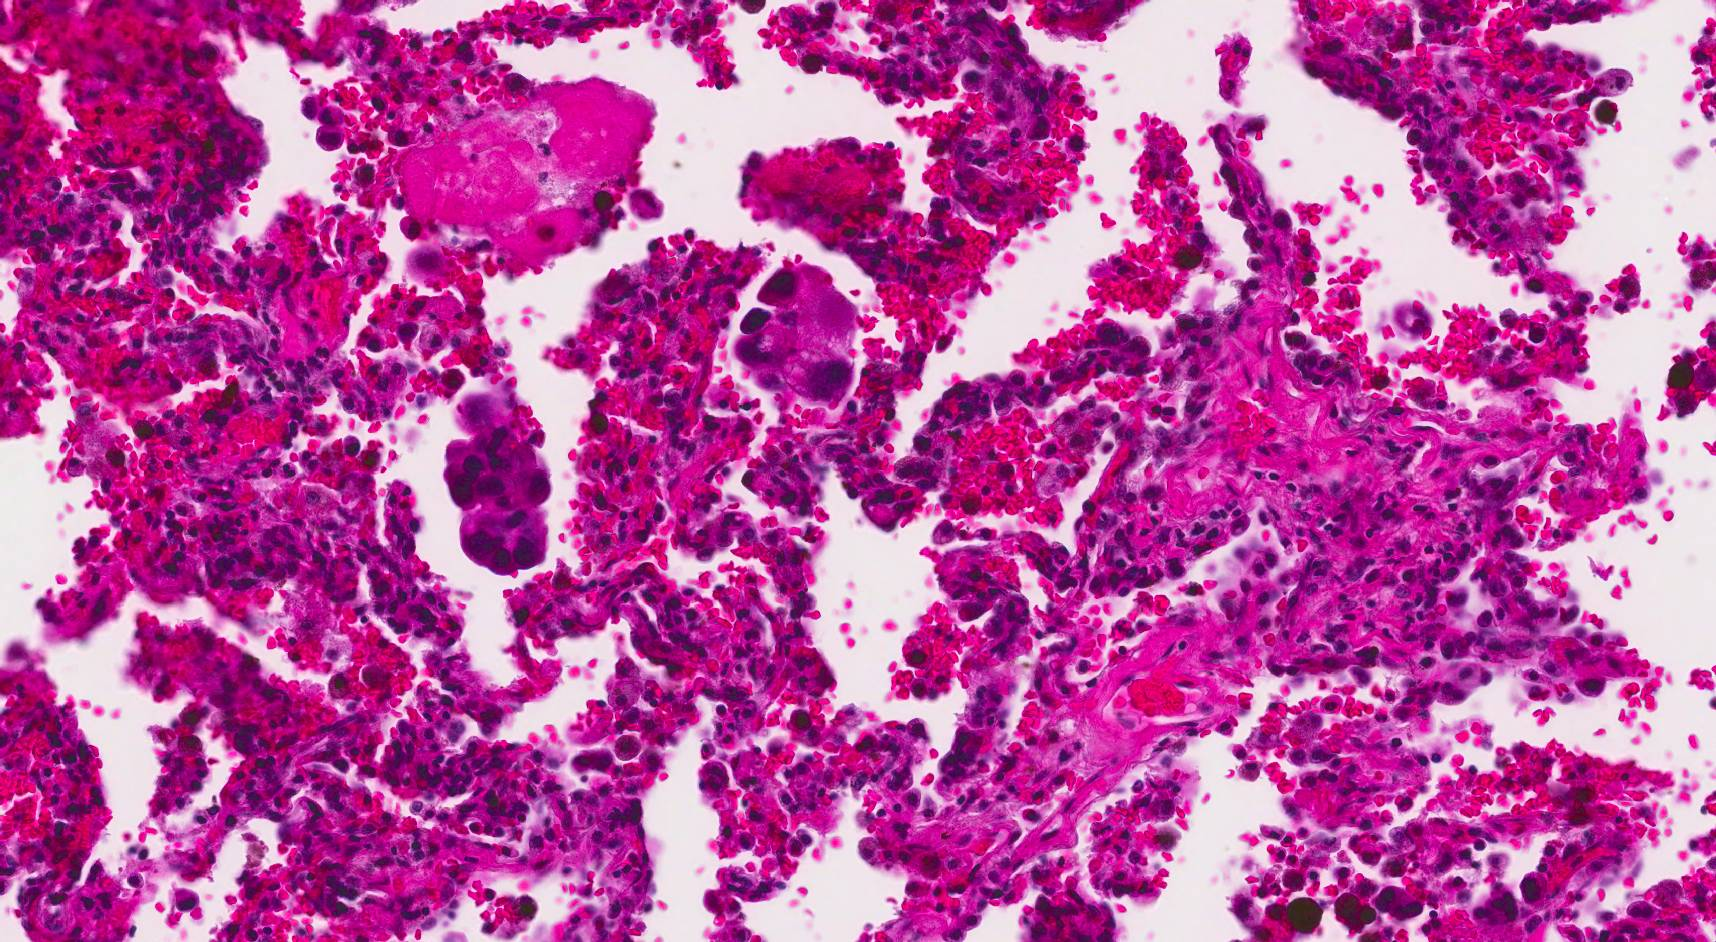stas: (731, 261, 862, 403), (443, 437, 555, 579)
